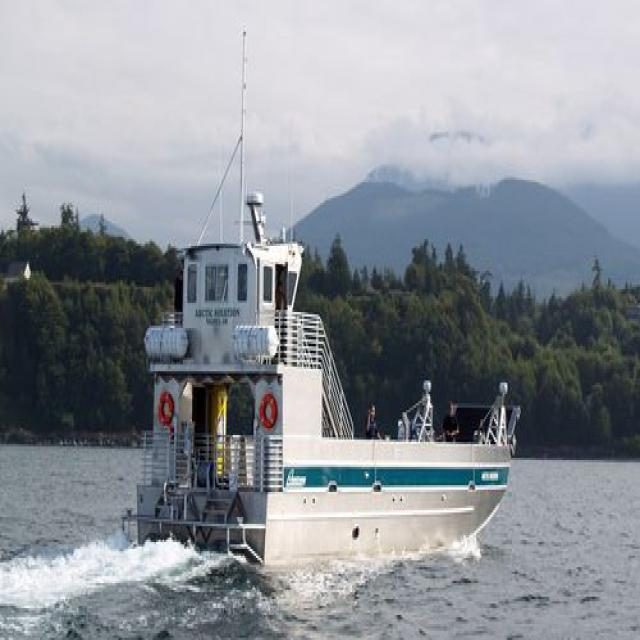houseboat: (135, 222, 512, 568)
